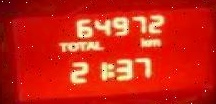1: (98, 59, 107, 80)
2: (67, 59, 88, 83), (147, 14, 162, 33)
3: (113, 57, 132, 81)
4: (91, 18, 110, 34)
6: (73, 17, 92, 37)
7: (132, 55, 152, 78), (130, 16, 145, 32)
9: (110, 15, 126, 34)
X: (105, 62, 113, 77), (93, 39, 103, 49), (67, 41, 77, 51), (146, 38, 160, 45), (75, 40, 85, 49), (138, 37, 147, 46), (56, 42, 65, 51), (85, 40, 93, 49)
